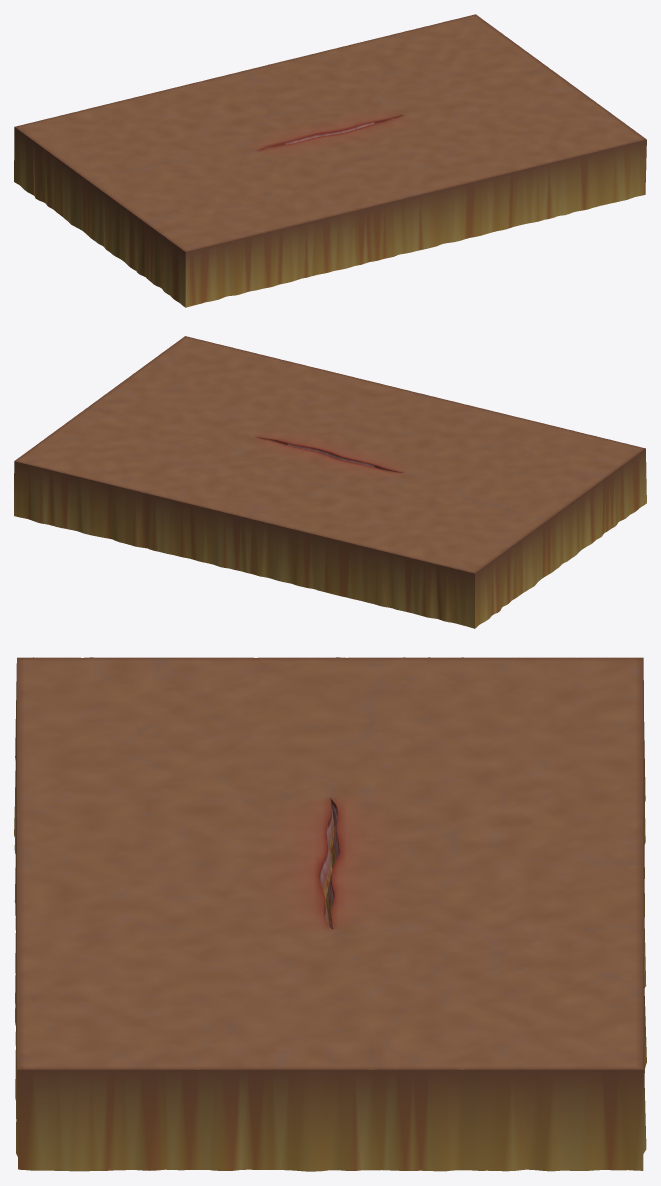
Rendered from pad_lin.glb.
The picture shows the model from 3 angles, top to bottom: view 1: azimuth 30°, elevation 25°; view 2: azimuth 150°, elevation 25°; view 3: azimuth 270°, elevation 25°; orthographic projection. The views are drawn at different scales.
Parts seen in each view (by area): view 1: pad_lin; view 2: pad_lin; view 3: pad_lin.
Boxes of the visible parts, x1,y1,x2,y2 form: pad_lin: (14, 14, 646, 307); pad_lin: (14, 336, 646, 628); pad_lin: (14, 657, 646, 1171).
Size of the model in its own units: 14.08 by 1.61 by 9.09.
